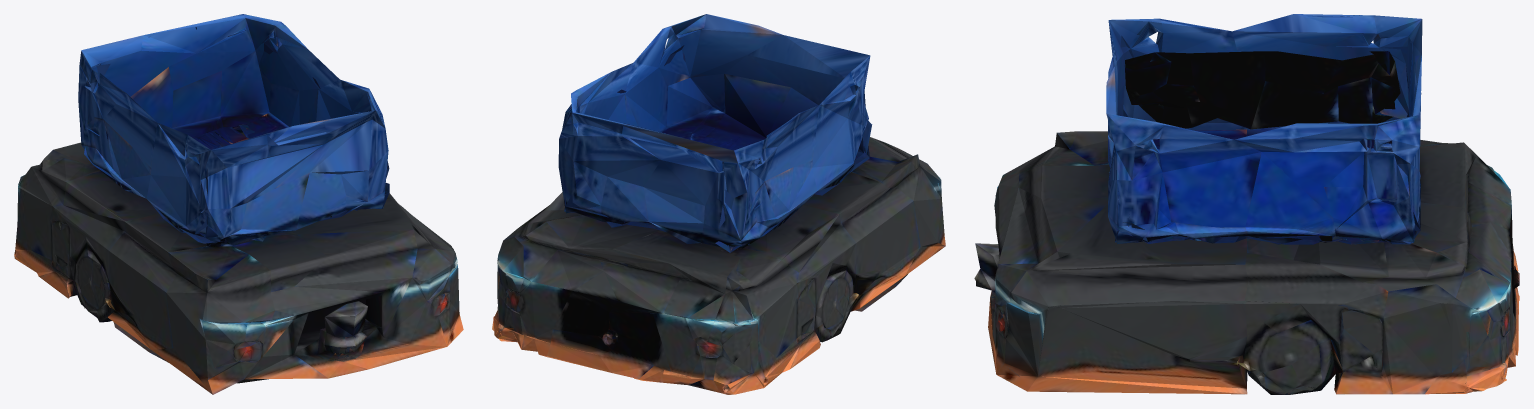
Rendered from agv.glb.
3 renders of one model, left to right at view 1: azimuth 30°, elevation 25°; view 2: azimuth 150°, elevation 25°; view 3: azimuth 270°, elevation 25°, orthographic. The views are drawn at different scales.
Bounding box in the file's own units: 0.6754 × 0.5231 × 0.9998.
Materials: 1 (1 with a texture image).
